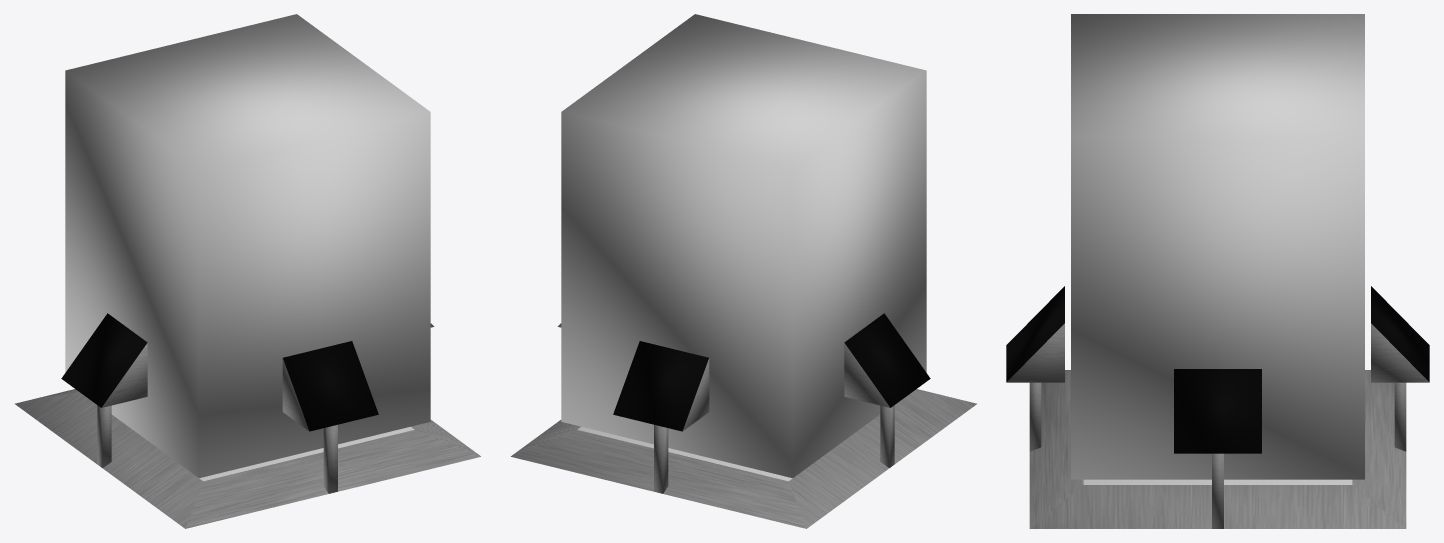
File: hologram.obj
The picture shows the model from 3 angles, left to right: view 1: azimuth 30°, elevation 25°; view 2: azimuth 150°, elevation 25°; view 3: azimuth 270°, elevation 25°; orthographic projection. The views are drawn at different scales.
Visible parts, largest first — view 1: projection_surface, base, front_terminal, left_terminal, front_foot, left_foot; view 2: projection_surface, base, back_terminal, left_terminal, back_foot, left_foot; view 3: projection_surface, base, right_terminal, back_terminal, front_terminal, right_foot, back_foot, front_foot.
Boxes of the visible parts, box(x1,y1,x2,y2) form: projection_surface: box(65, 14, 430, 478); base: box(14, 389, 480, 528); front_terminal: box(282, 341, 378, 431); left_terminal: box(61, 313, 147, 407); front_foot: box(323, 424, 337, 493); left_foot: box(97, 405, 111, 467); projection_surface: box(561, 14, 926, 478); base: box(511, 389, 977, 528); back_terminal: box(613, 341, 709, 431); left_terminal: box(844, 313, 930, 407); back_foot: box(654, 424, 668, 493); left_foot: box(880, 405, 894, 467); projection_surface: box(1071, 14, 1364, 479); base: box(1029, 370, 1406, 528); right_terminal: box(1174, 369, 1261, 453); back_terminal: box(1371, 286, 1429, 382); front_terminal: box(1006, 286, 1064, 382); right_foot: box(1212, 453, 1223, 528); back_foot: box(1394, 382, 1406, 451); front_foot: box(1029, 382, 1041, 451).
Size of the model in its own units: 3.6 by 3.5 by 3.6.
